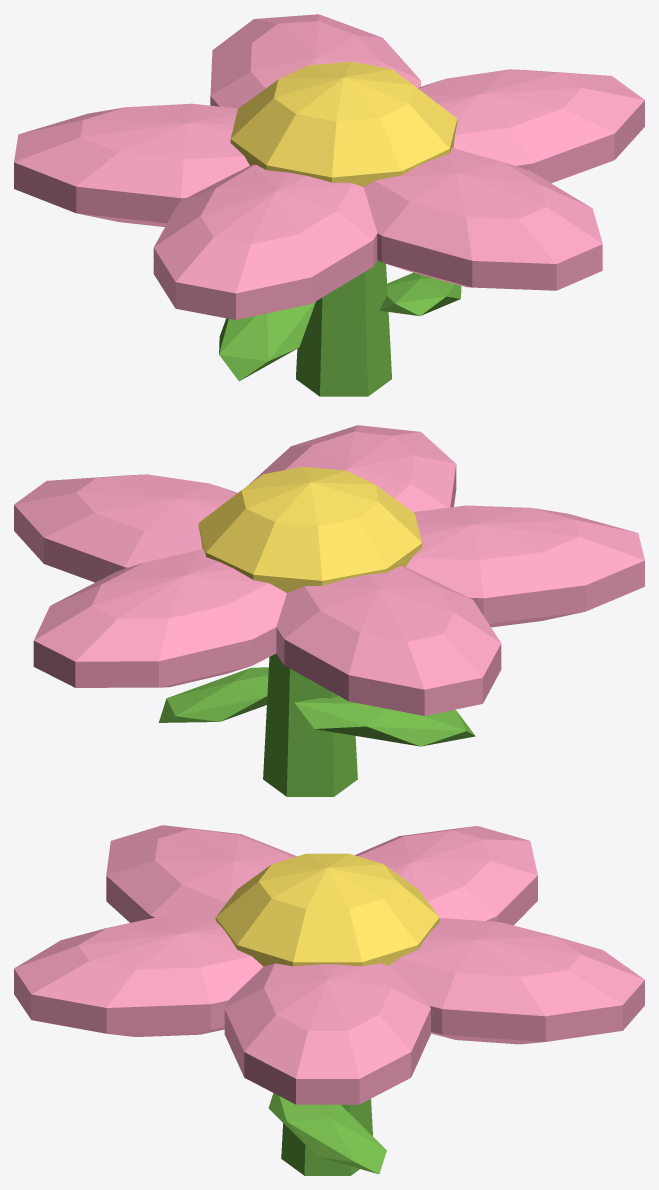
The model's file is pink-flower-patch.glb.
3 renders of one model, top to bottom at view 1: azimuth 30°, elevation 25°; view 2: azimuth 150°, elevation 25°; view 3: azimuth 270°, elevation 25°, orthographic. The views are drawn at different scales.
Visible parts, largest first — view 1: Pink flower petal 4, Pink flower petal 5, Pink flower petal 3, Pink flower center, Pink flower petal 1, Pink flower petal 2, Pink flower stem, Pink flower leaf left, Pink flower leaf right; view 2: Pink flower petal 2, Pink flower petal 3, Pink flower petal 4, Pink flower center, Pink flower petal 1, Pink flower petal 5, Pink flower stem, Pink flower leaf left, Pink flower leaf right; view 3: Pink flower petal 1, Pink flower petal 2, Pink flower petal 5, Pink flower center, Pink flower petal 4, Pink flower petal 3, Pink flower leaf right, Pink flower stem.
Part boxes in pixels (x1,y1,x2,y2): Pink flower petal 4: (153,164,377,319); Pink flower petal 5: (364,148,602,290); Pink flower petal 3: (14,103,249,226); Pink flower center: (230,61,457,187); Pink flower petal 1: (418,69,644,183); Pink flower petal 2: (210,14,420,108); Pink flower stem: (296,260,391,396); Pink flower leaf left: (219,301,315,381); Pink flower leaf right: (379,272,461,316); Pink flower petal 2: (33,549,286,687); Pink flower petal 3: (276,565,501,715); Pink flower petal 4: (406,505,644,627); Pink flower center: (198,466,422,592); Pink flower petal 1: (14,474,237,582); Pink flower petal 5: (249,425,456,511); Pink flower stem: (263,653,357,796); Pink flower leaf left: (295,696,475,746); Pink flower leaf right: (158,667,268,722); Pink flower petal 1: (224,963,430,1104); Pink flower petal 2: (390,918,644,1044); Pink flower petal 5: (14,913,263,1036); Pink flower center: (215,853,439,966); Pink flower petal 4: (106,825,296,922); Pink flower petal 3: (355,826,537,925); Pink flower leaf right: (268,1093,386,1174); Pink flower stem: (281,1099,372,1175).
Size of the model in its own units: 0.284 by 0.152 by 0.2985.
